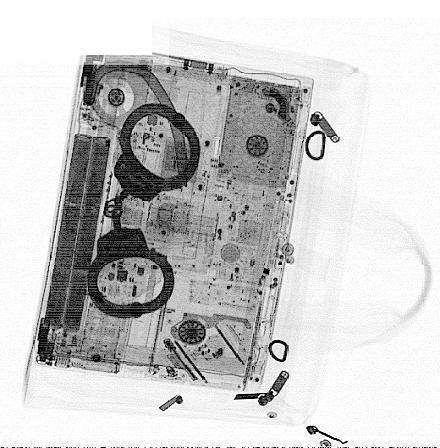HandCuffs: (86, 102, 202, 320)
